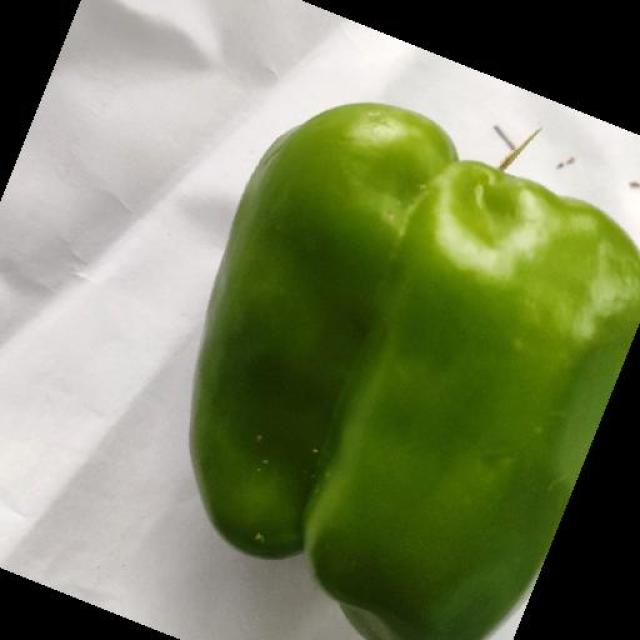Fresh_Capsicum: (249, 81, 640, 639)
